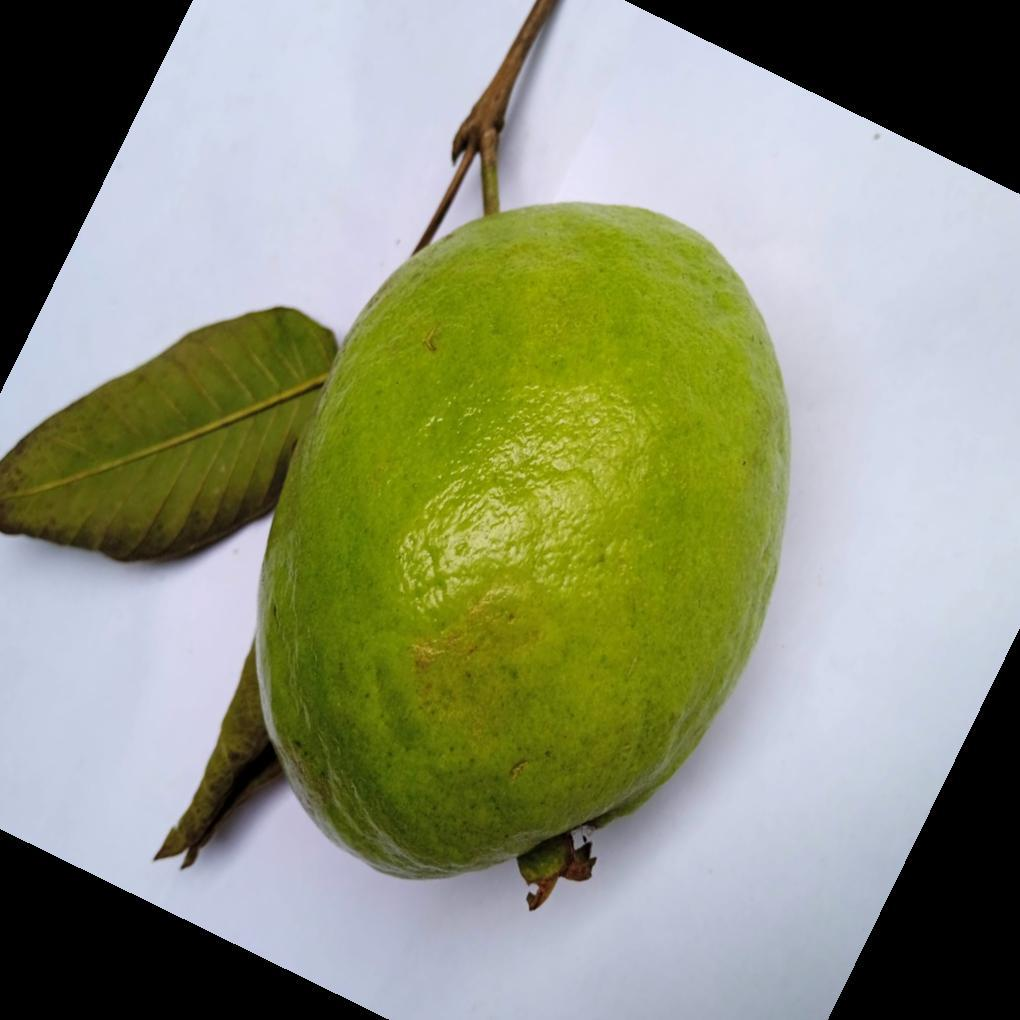FreshGuava: (231, 201, 791, 893)
